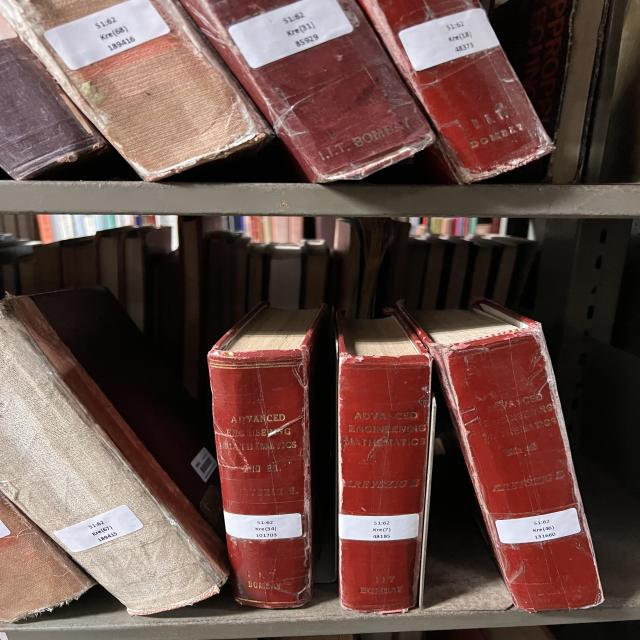Book: (0, 296, 228, 615), (398, 299, 603, 611), (182, 0, 435, 182), (360, 0, 553, 184), (208, 302, 323, 609), (338, 311, 432, 612), (0, 38, 107, 180)
Label: (45, 0, 170, 70), (228, 0, 353, 69), (398, 9, 500, 71), (53, 505, 143, 552), (495, 508, 582, 544), (223, 511, 302, 540), (338, 514, 420, 541)
